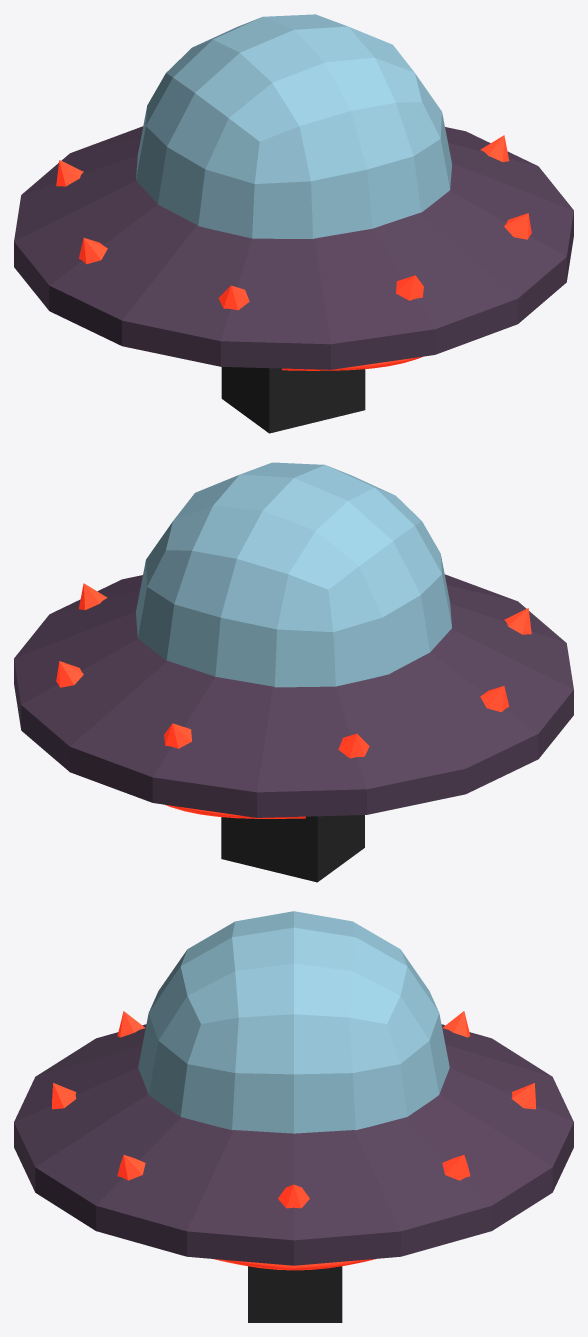
File: Ovni.fbx
The picture shows the model from 3 angles, top to bottom: view 1: azimuth 30°, elevation 25°; view 2: azimuth 150°, elevation 25°; view 3: azimuth 270°, elevation 25°; orthographic projection.
Parts seen in each view (by area): view 1: Ovni; view 2: Ovni; view 3: Ovni.
Boxes of the visible parts, x1,y1,x2,y2 form: Ovni: (14, 14, 573, 433); Ovni: (14, 462, 573, 882); Ovni: (14, 911, 573, 1322).
Size of the model in its own units: 1.78 by 1.31 by 1.78.
